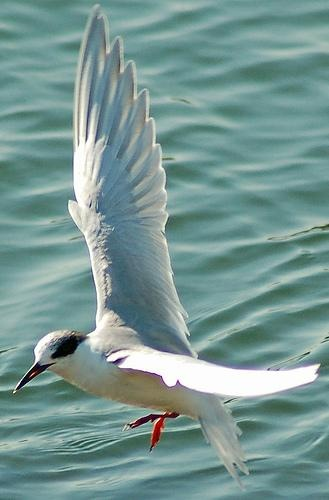bird: (10, 1, 319, 487)
